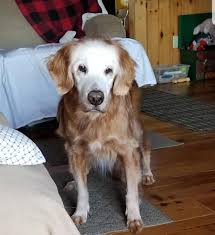Golden Retriever: (28, 25, 185, 235)
